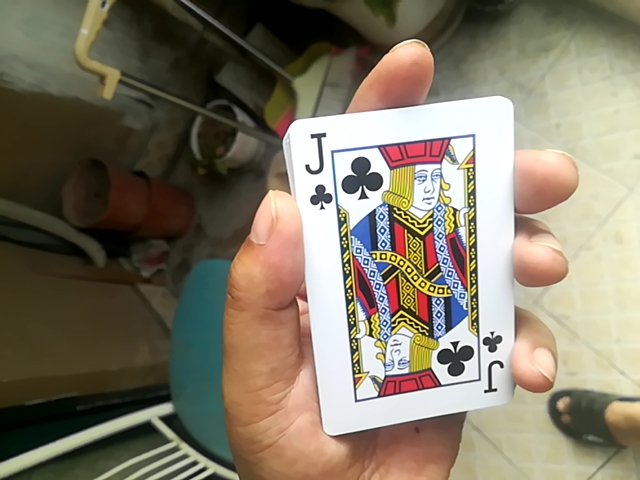mh j: (297, 85, 521, 457)
